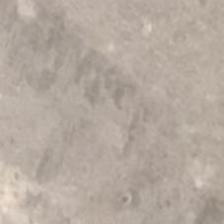Non_Crack: (11, 30, 216, 185)
